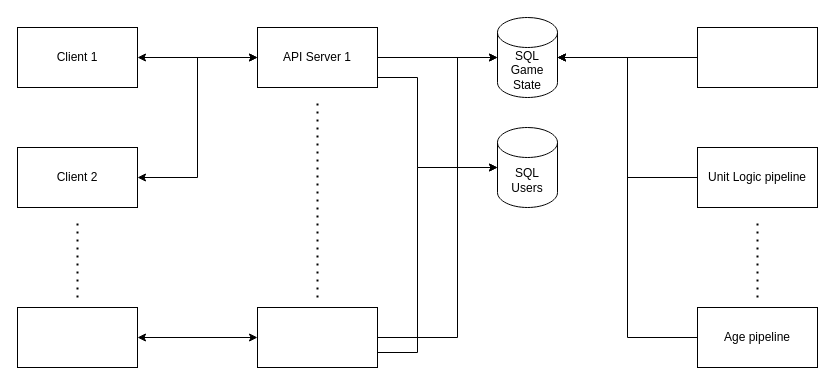
Image size: 835x385. Some labels were removed from this diagram. The shapes that lost their labels are listed below. From the top down, each one's centre as x and y in pixels, then its label:
At pixel 757 57: "Physics pipeline".
At pixel 77 337: "Client".
At pixel 317 337: "API Server n".
